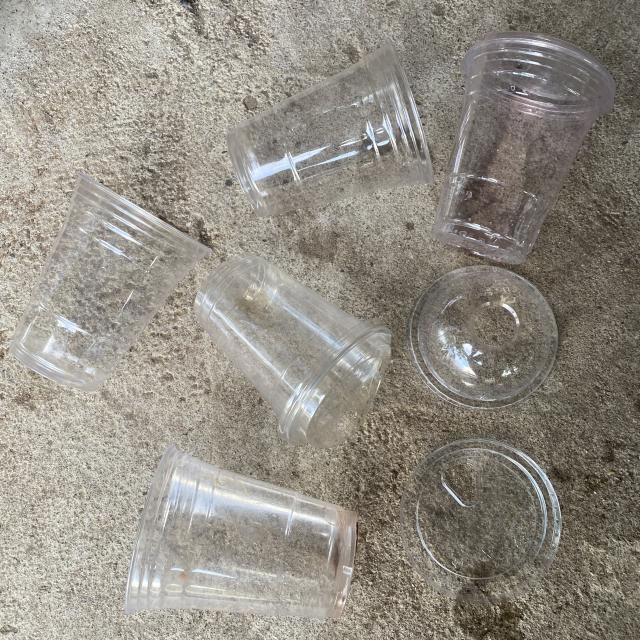plastik: (10, 174, 210, 391), (434, 31, 615, 264), (125, 445, 358, 619), (194, 254, 391, 448), (228, 40, 434, 216), (400, 439, 561, 604), (408, 266, 558, 409)
